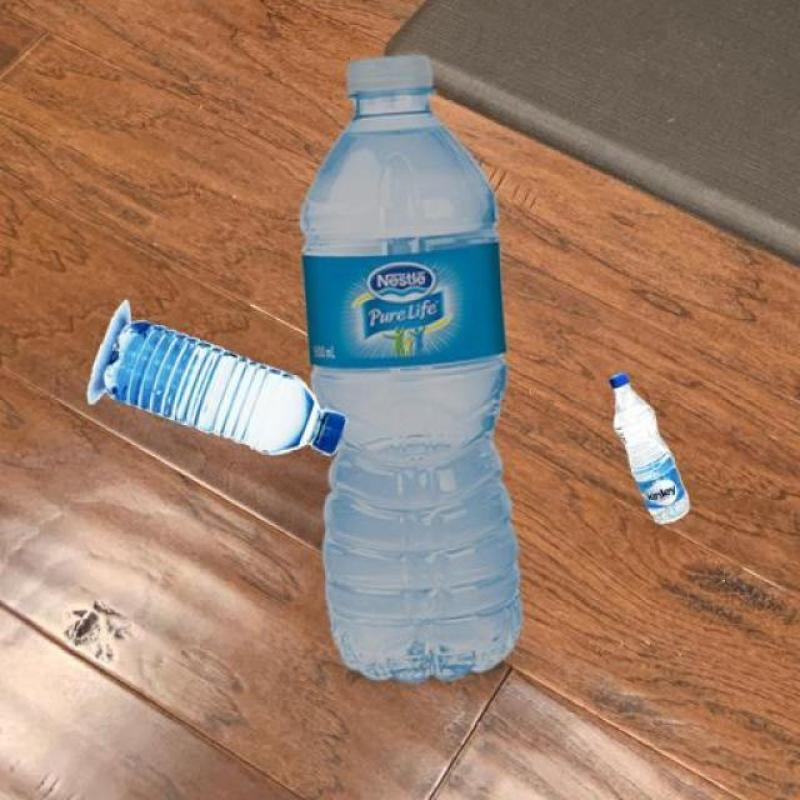botella: (297, 56, 526, 688), (103, 317, 347, 458), (607, 372, 692, 527)
